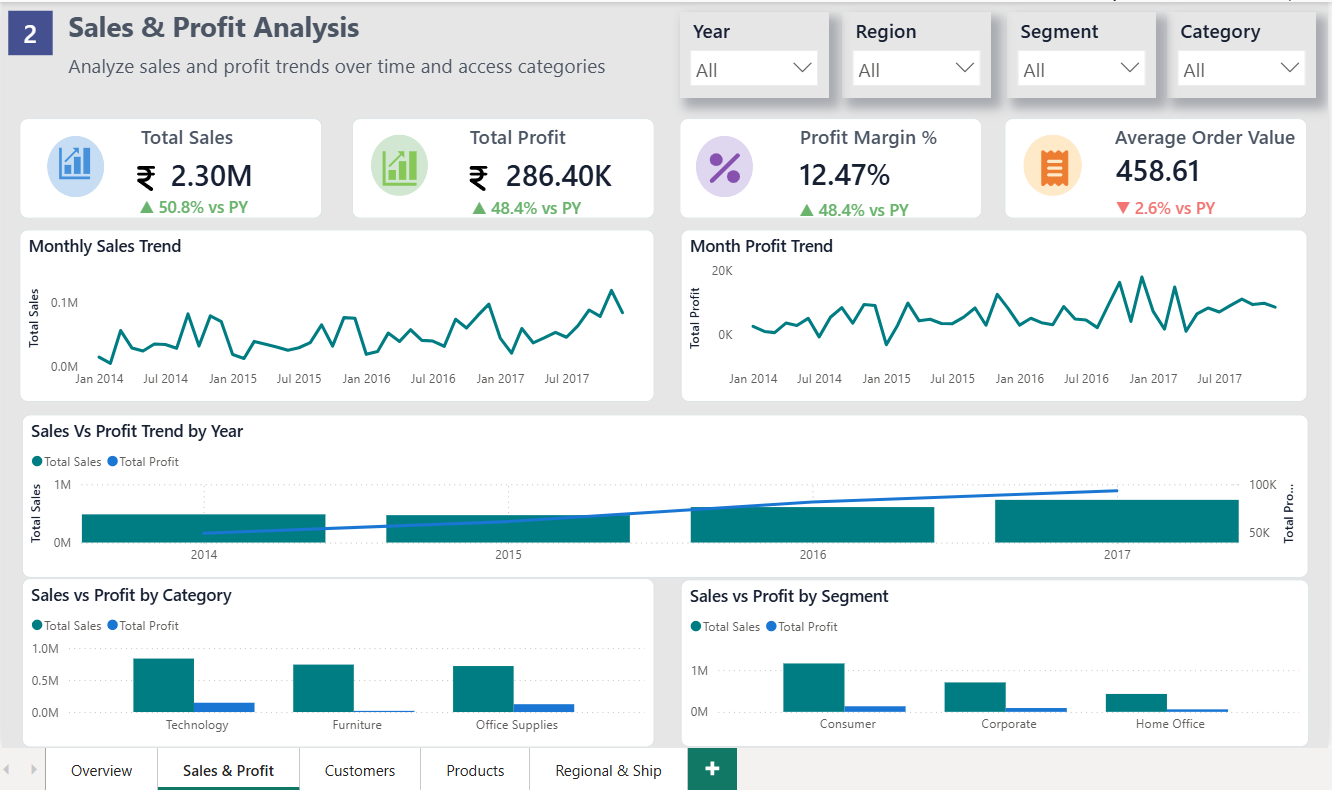

What the dashboard file says about the page in this screenshot:
{"tool":"powerbi","page":{"name":"Sales & Profit","canvas":[1280,720],"ordinal":1},"visuals":[{"type":"textbox","box":[0,0,1280.3,112.5],"z":0},{"type":"slicer","fields":{"Values":["Calendar.Year"]},"box":[653.3,9.7,143.9,83],"z":1000},{"type":"slicer","fields":{"Values":["Fact_Sales.Region"]},"box":[811.1,9.7,143.9,83],"z":2000},{"type":"slicer","fields":{"Values":["Fact_Sales.Segment"]},"box":[970.2,9.7,143.9,83],"z":3000},{"type":"slicer","fields":{"Values":["Fact_Sales.Category"]},"box":[1123.9,9.7,143.9,83],"z":4000},{"type":"shape","box":[16.6,112.1,292,96.9],"z":5000},{"type":"shape","box":[337.7,112.1,292,96.9],"z":6000},{"type":"shape","box":[967.5,112.1,292,96.9],"z":7000},{"type":"shape","box":[653.3,112.1,292,96.9],"z":8000},{"type":"image","box":[48.4,135.6,42.9,41.5],"z":9000},{"type":"image","box":[361.2,134.3,45.7,54],"z":10000},{"type":"image","box":[114.9,153.6,48.4,34.6],"z":11000},{"type":"cardVisual","fields":{"Data":["Fact_Sales.Total Sales"]},"box":[134.3,127.3,161.9,74.7],"z":12000},{"type":"textbox","box":[128.7,112.1,173,59.5],"z":13000},{"type":"textbox","box":[383.4,112.1,228.4,59.5],"z":14000},{"type":"image","box":[436,153.6,48.4,34.6],"z":15000},{"type":"cardVisual","fields":{"Data":["Fact_Sales.Total Profit"]},"box":[456.7,127.3,178.5,74.7],"z":16000},{"type":"shape","box":[669.9,128.7,55.4,59.5],"z":17000},{"type":"shape","box":[985.5,127.3,56.7,59.5],"z":18000},{"type":"image","box":[676.8,137,41.5,45.7],"z":19000},{"type":"image","box":[985.5,138.4,60.9,42.9],"z":20000},{"type":"textbox","box":[765.4,112.1,179.9,41.5],"z":21000},{"type":"cardVisual","fields":{"Data":["Fact_Sales.Profit Margin %"]},"box":[740.5,117.6,204.8,91.3],"z":22000},{"type":"textbox","box":[1068.5,112.1,191,60.9],"z":23000},{"type":"cardVisual","fields":{"Data":["Fact_Sales.Average Order Value"]},"box":[1046.4,124.6,159.2,73.4],"z":24000},{"type":"cardVisual","fields":{"Data":["Fact_Sales.Orders YoY Display"]},"box":[103.8,161.9,204.8,67.8],"z":25000},{"type":"cardVisual","fields":{"Data":["Fact_Sales.Profit YoY Display"]},"box":[424.9,163.3,204.8,67.8],"z":26000},{"type":"cardVisual","fields":{"Data":["Fact_Sales.AOV YoY Display"]},"box":[1046.4,163.3,204.8,67.8],"z":27000},{"type":"cardVisual","fields":{"Data":["Fact_Sales.Profit YoY Display"]},"box":[740.5,164.7,204.8,67.8],"z":28000},{"type":"lineChart","title":"Monthly Sales Trend","fields":{"Category":["Calendar.Month Start"],"Y":["Fact_Sales.Total Sales"]},"box":[16.6,220.1,613.2,166.1],"z":29000},{"type":"lineChart","title":"Month Profit Trend","fields":{"Category":["Calendar.Month Start"],"Y":["Fact_Sales.Total Profit"]},"box":[654.7,220.1,604.8,166.1],"z":30000},{"type":"shape","box":[355.7,127.3,55.4,59.5],"z":31000},{"type":"shape","box":[42.9,128.7,55.4,59.5],"z":32000},{"type":"shape","box":[5.5,8.3,42.9,42.9],"z":33000},{"type":"textbox","box":[15.2,9.7,54,47.1],"z":34000},{"type":"lineClusteredColumnComboChart","title":"Sales Vs Profit Trend by Year","fields":{"Category":["Calendar.Year"],"Y":["Fact_Sales.Total Sales"],"Y2":["Fact_Sales.Total Profit"]},"box":[19.4,398.6,1241.5,157.8],"z":35000},{"type":"clusteredColumnChart","title":"Sales vs Profit by Category","fields":{"Category":["Fact_Sales.Category"],"Y":["Fact_Sales.Total Sales","Fact_Sales.Total Profit"]},"box":[19.4,556.4,610.4,163.3],"z":36000},{"type":"clusteredColumnChart","title":"Sales vs Profit by Segment","fields":{"Category":["Fact_Sales.Segment"],"Y":["Fact_Sales.Total Sales","Fact_Sales.Total Profit"]},"box":[654.7,557.8,606.2,161.9],"z":37000}]}

Visuals, with their boxes on the page's 1280x720 design canvas (x1, y1, x2, y2). These are canvas units, not pixel positions in the 1332x790 screenshot, which may show the page scaled, cropped or inside an application window:
textbox: <bbox>0, 0, 1280, 112</bbox>
slicer - Calendar.Year: <bbox>653, 10, 797, 93</bbox>
slicer - Fact_Sales.Region: <bbox>811, 10, 955, 93</bbox>
slicer - Fact_Sales.Segment: <bbox>970, 10, 1114, 93</bbox>
slicer - Fact_Sales.Category: <bbox>1124, 10, 1268, 93</bbox>
shape: <bbox>17, 112, 309, 209</bbox>
shape: <bbox>338, 112, 630, 209</bbox>
shape: <bbox>968, 112, 1260, 209</bbox>
shape: <bbox>653, 112, 945, 209</bbox>
image: <bbox>48, 136, 91, 177</bbox>
image: <bbox>361, 134, 407, 188</bbox>
image: <bbox>115, 154, 163, 188</bbox>
cardVisual - Fact_Sales.Total Sales: <bbox>134, 127, 296, 202</bbox>
textbox: <bbox>129, 112, 302, 172</bbox>
textbox: <bbox>383, 112, 612, 172</bbox>
image: <bbox>436, 154, 484, 188</bbox>
cardVisual - Fact_Sales.Total Profit: <bbox>457, 127, 635, 202</bbox>
shape: <bbox>670, 129, 725, 188</bbox>
shape: <bbox>986, 127, 1042, 187</bbox>
image: <bbox>677, 137, 718, 183</bbox>
image: <bbox>986, 138, 1046, 181</bbox>
textbox: <bbox>765, 112, 945, 154</bbox>
cardVisual - Fact_Sales.Profit Margin %: <bbox>740, 118, 945, 209</bbox>
textbox: <bbox>1068, 112, 1260, 173</bbox>
cardVisual - Fact_Sales.Average Order Value: <bbox>1046, 125, 1206, 198</bbox>
cardVisual - Fact_Sales.Orders YoY Display: <bbox>104, 162, 309, 230</bbox>
cardVisual - Fact_Sales.Profit YoY Display: <bbox>425, 163, 630, 231</bbox>
cardVisual - Fact_Sales.AOV YoY Display: <bbox>1046, 163, 1251, 231</bbox>
cardVisual - Fact_Sales.Profit YoY Display: <bbox>740, 165, 945, 232</bbox>
"Monthly Sales Trend" lineChart: <bbox>17, 220, 630, 386</bbox>
"Month Profit Trend" lineChart: <bbox>655, 220, 1260, 386</bbox>
shape: <bbox>356, 127, 411, 187</bbox>
shape: <bbox>43, 129, 98, 188</bbox>
shape: <bbox>6, 8, 48, 51</bbox>
textbox: <bbox>15, 10, 69, 57</bbox>
"Sales Vs Profit Trend by Year" lineClusteredColumnComboChart: <bbox>19, 399, 1261, 556</bbox>
"Sales vs Profit by Category" clusteredColumnChart: <bbox>19, 556, 630, 720</bbox>
"Sales vs Profit by Segment" clusteredColumnChart: <bbox>655, 558, 1261, 720</bbox>
